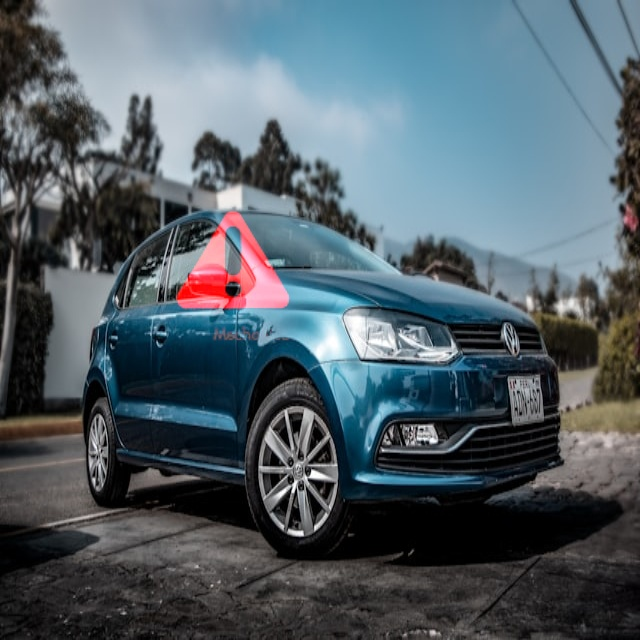symbol: (144, 172, 321, 349)
